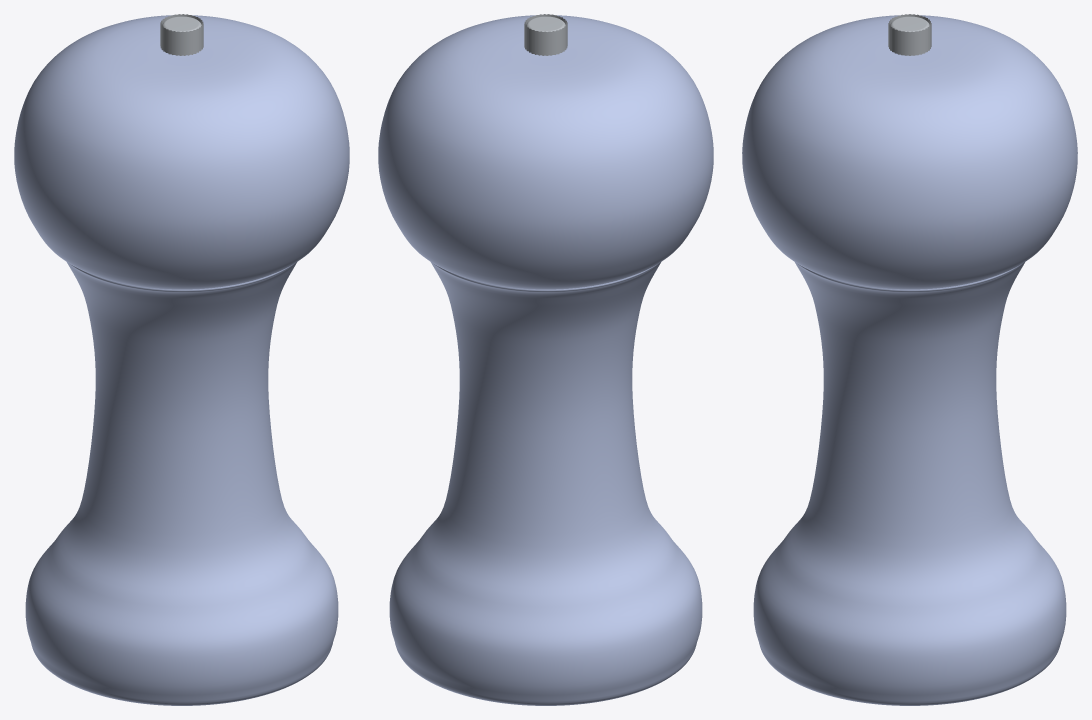
File: pepper-mill.glb
The picture shows the model from 3 angles, left to right: view 1: azimuth 30°, elevation 25°; view 2: azimuth 150°, elevation 25°; view 3: azimuth 270°, elevation 25°; orthographic projection.
Visible parts, largest first — view 1: sculpted-surface (×2), rounded-mill-crown-/-adjustment-screw-018; view 2: sculpted-surface (×2), rounded-mill-crown-/-adjustment-screw-018; view 3: sculpted-surface (×2), rounded-mill-crown-/-adjustment-screw-018.
Boxes of the visible parts, x1,y1,x2,y2 form: sculpted-surface (×2): [14, 15, 349, 705]; rounded-mill-crown-/-adjustment-screw-018: [160, 14, 203, 55]; sculpted-surface (×2): [378, 15, 713, 705]; rounded-mill-crown-/-adjustment-screw-018: [524, 14, 567, 55]; sculpted-surface (×2): [742, 15, 1077, 705]; rounded-mill-crown-/-adjustment-screw-018: [888, 14, 931, 55].
Bounding box in the file's own units: 0.9719 × 2 × 0.9719.
